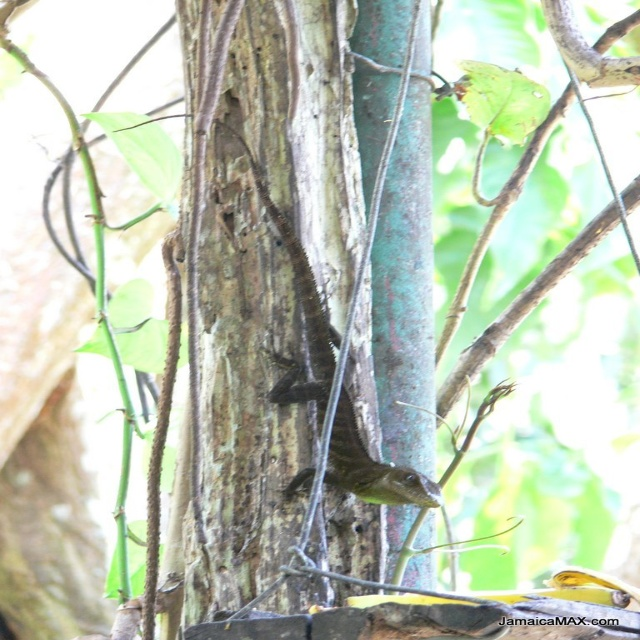Lizard: (214, 122, 441, 506)
